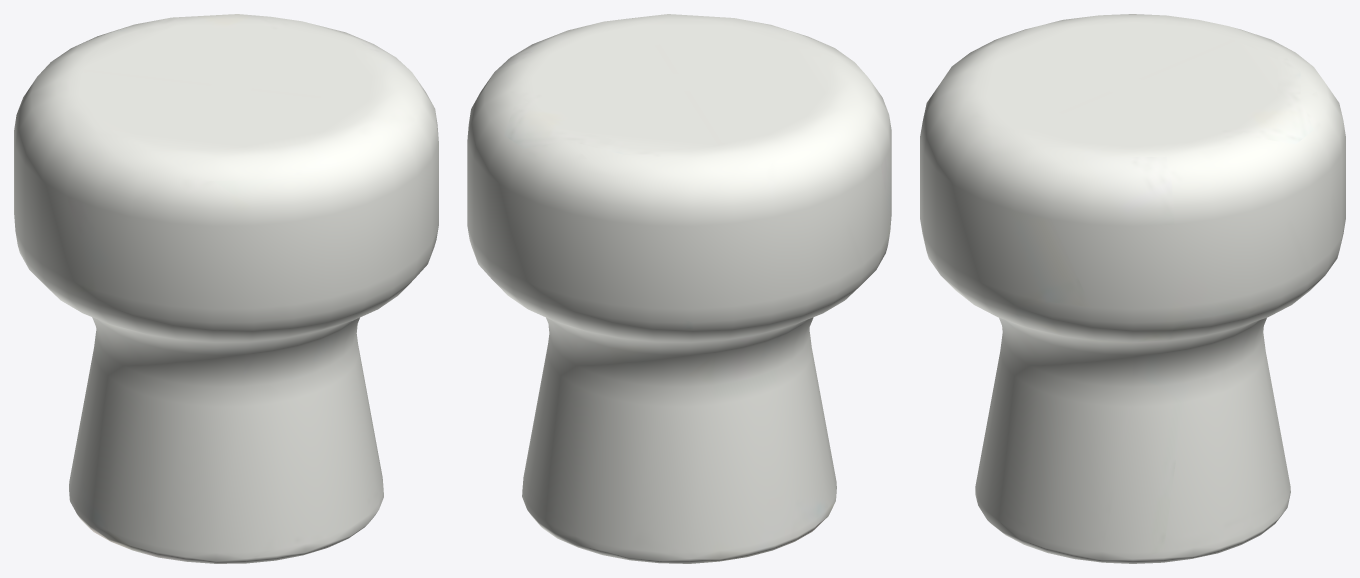
3 views of the same model, side by side, from view 1: azimuth 30°, elevation 25°; view 2: azimuth 150°, elevation 25°; view 3: azimuth 270°, elevation 25° (orthographic).
Visible parts, largest first — view 1: 40596531-ODLINGSGRÃƒâ€žNS001; view 2: 40596531-ODLINGSGRÃƒâ€žNS001; view 3: 40596531-ODLINGSGRÃƒâ€žNS001.
Boxes of the visible parts, <box> form: 40596531-ODLINGSGRÃƒâ€žNS001: <box>14,14,438,563</box>; 40596531-ODLINGSGRÃƒâ€žNS001: <box>467,14,891,563</box>; 40596531-ODLINGSGRÃƒâ€žNS001: <box>920,14,1345,563</box>.
Size of the model in its own units: 0.027 by 0.029 by 0.027.
Materials: 1 (1 with a texture image).
